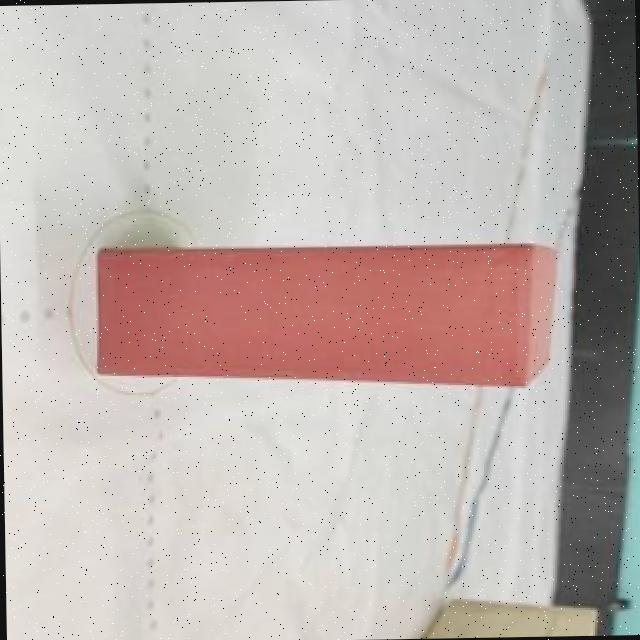redbox: (92, 239, 563, 392)
